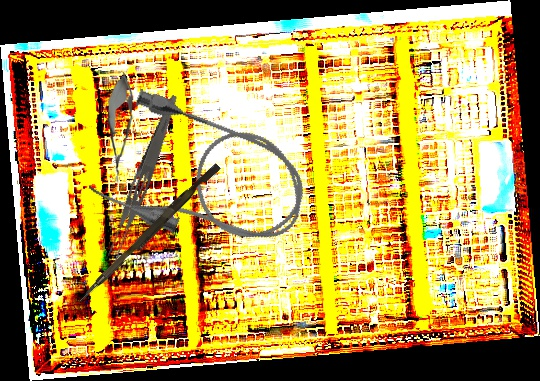Cannula: (83, 83, 322, 272)
Dressing Forceps: (102, 91, 182, 264)
Micro Scissor: (103, 71, 136, 185)
Pusher: (77, 159, 222, 308)
